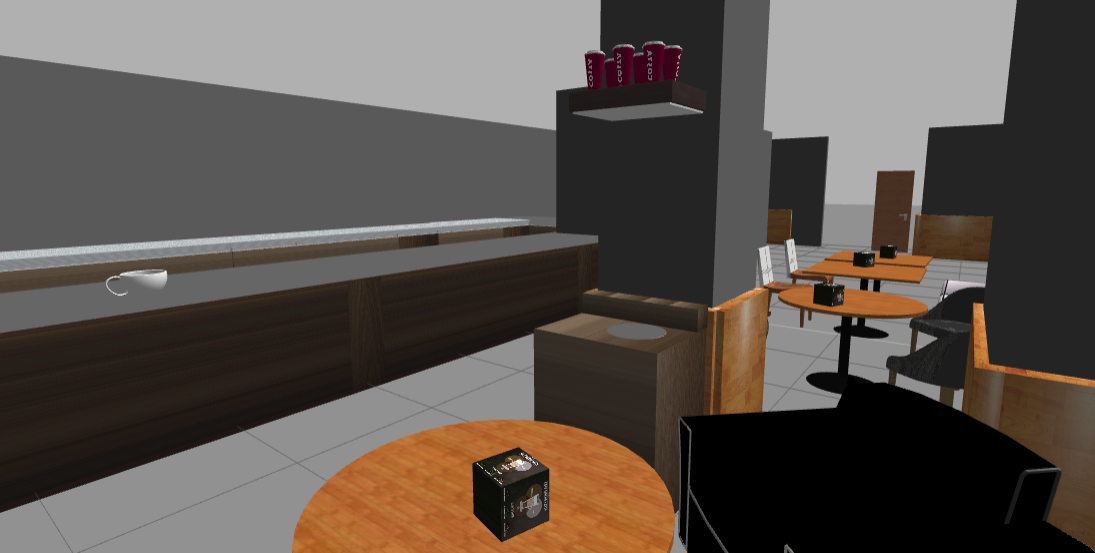box: (463, 443, 559, 545)
cup: (101, 266, 175, 303)
table: (288, 413, 681, 553), (781, 283, 934, 399), (806, 258, 928, 313), (836, 249, 937, 268)
takeawaycup: (644, 35, 664, 87), (581, 46, 605, 87), (663, 46, 687, 83), (616, 41, 635, 85)
